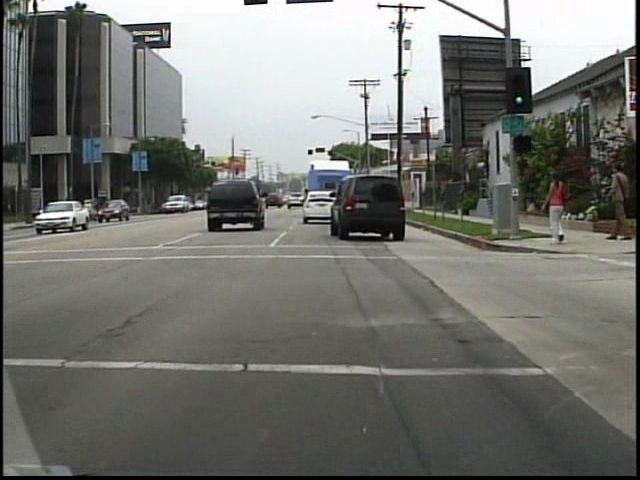person: (536, 169, 575, 248), (603, 155, 633, 244)
